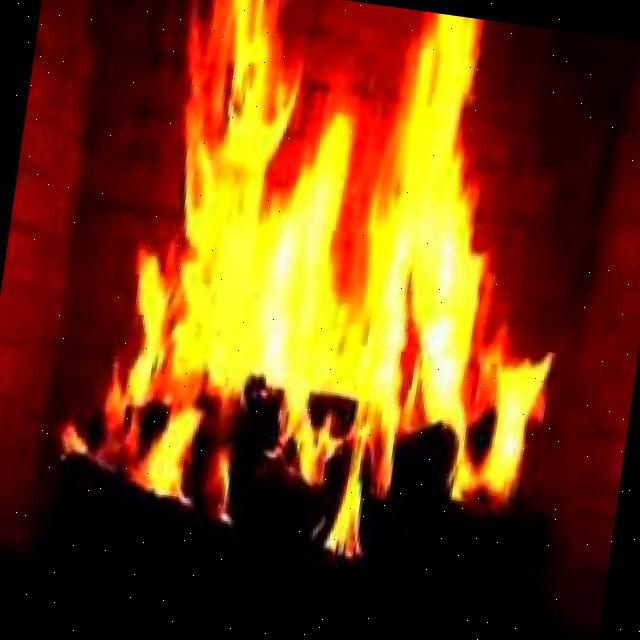fire: (132, 22, 570, 508)
